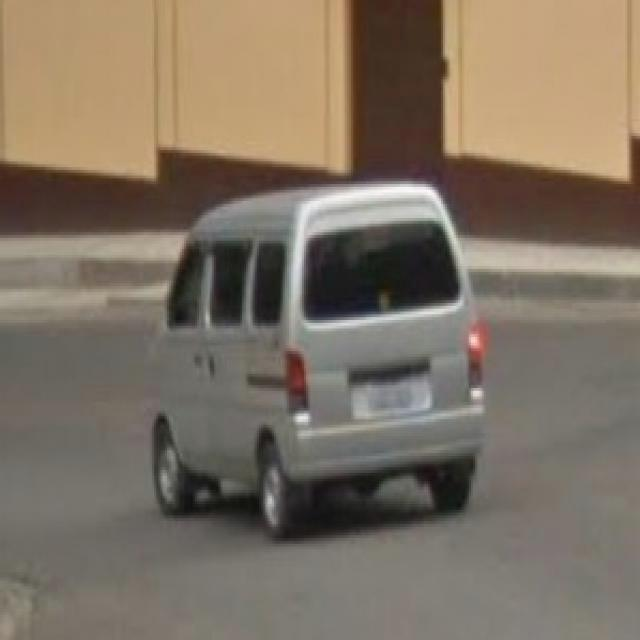Car: (146, 176, 487, 540)
